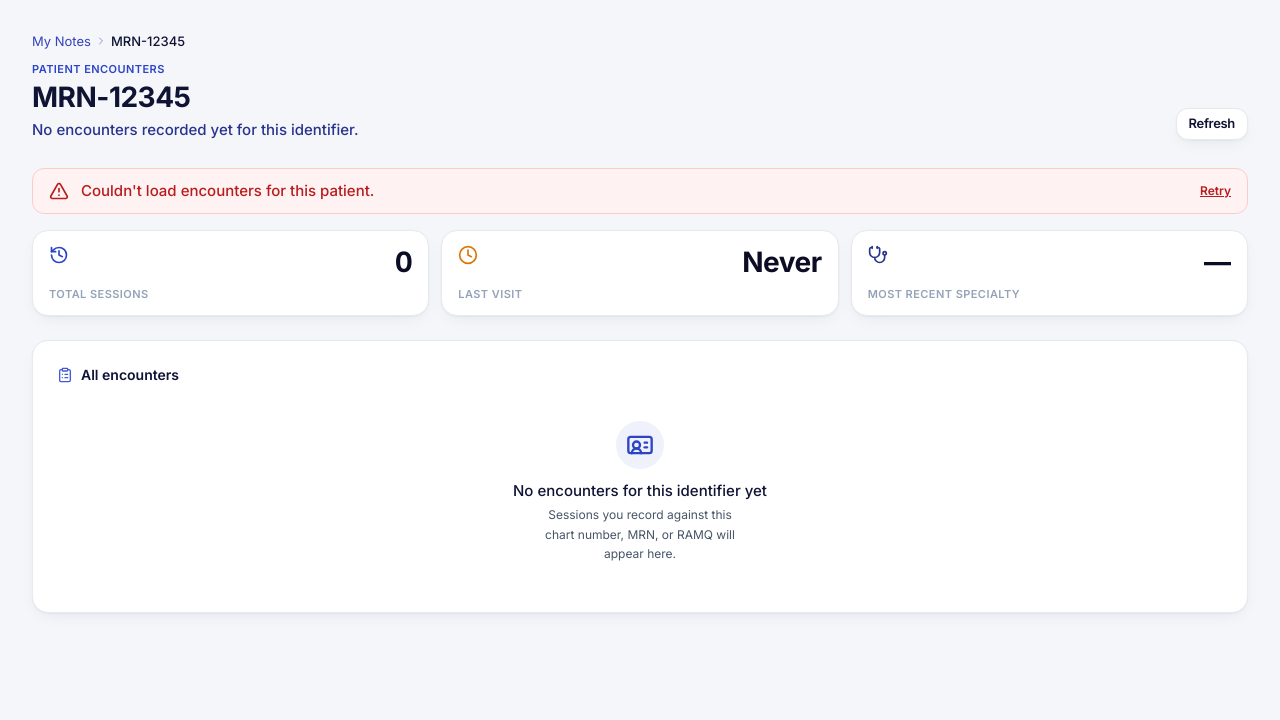
it: PatientDetailPage — empty + failure states › retry button refetches the API
Click the button with test id "patient-detail-retry": click(1216, 191) 1200,183 -> 1231,199
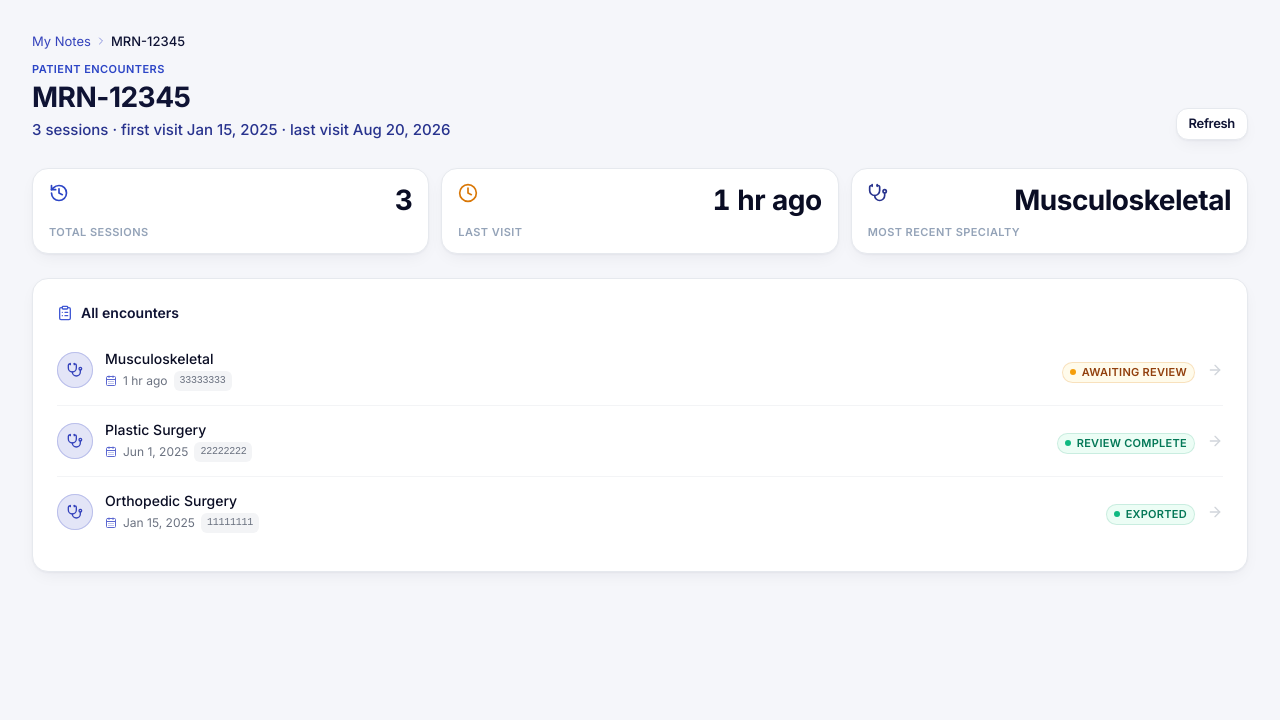
Expected: the list with test id "patient-detail-session-list" is shown, 57,335 -> 1223,547
